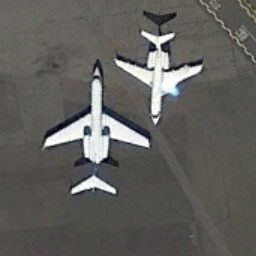Airplane: (35, 59, 154, 205), (110, 25, 209, 133)
